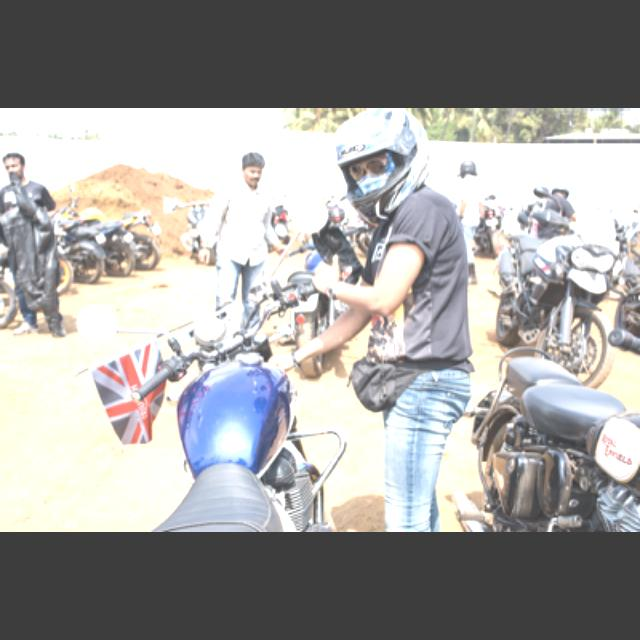With Helmet: (323, 108, 433, 226)
